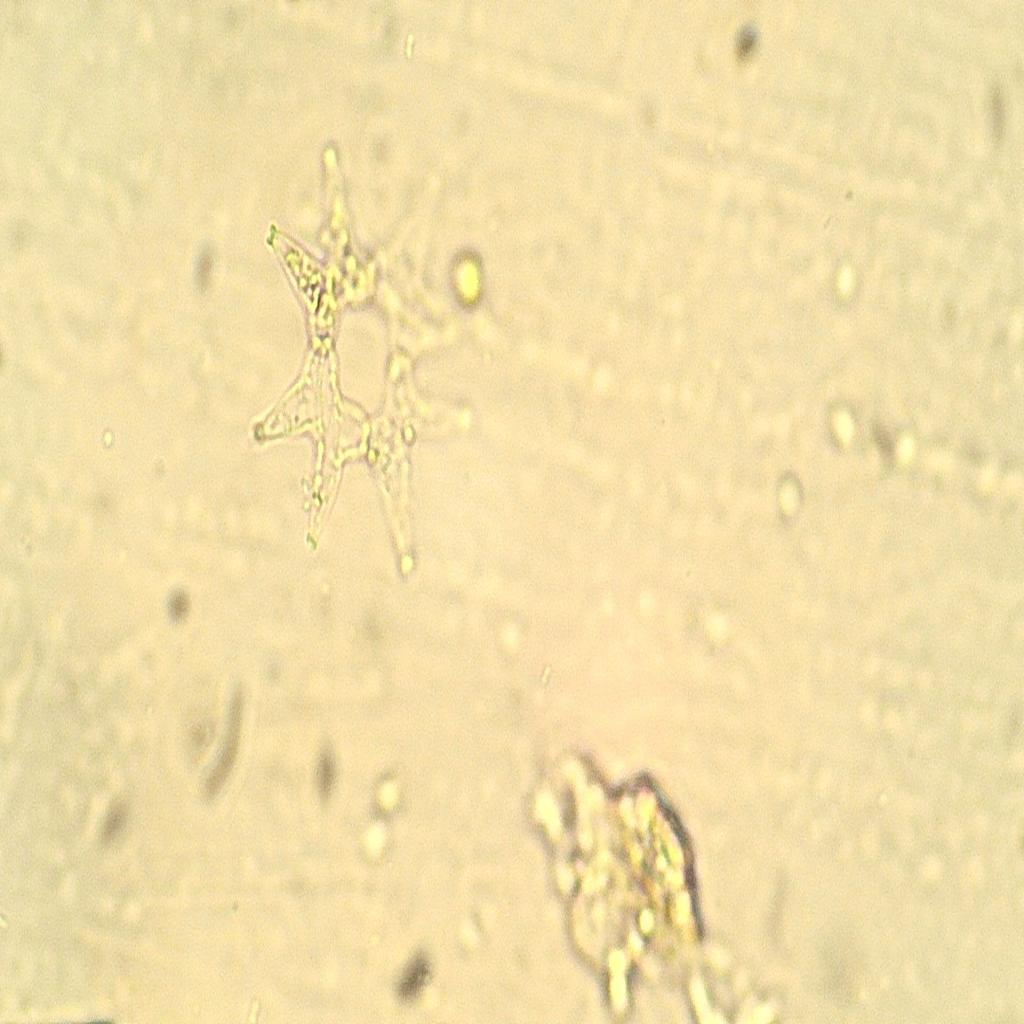Pediastrum_75TH: (234, 117, 498, 598)
